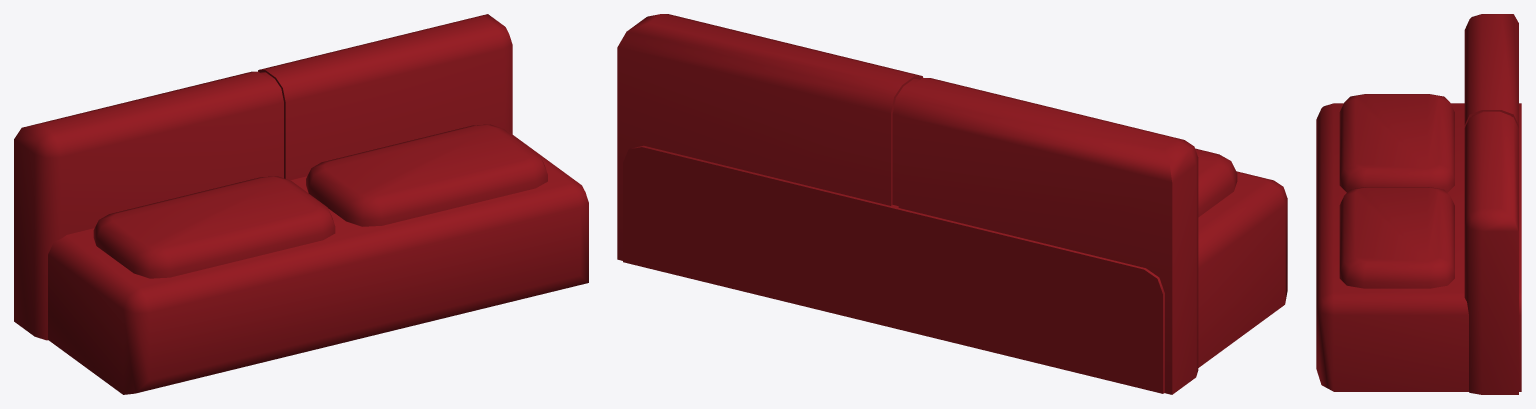
Rendered from Environment_Sofa.fbx.
3 renders of one model, left to right at view 1: azimuth 30°, elevation 25°; view 2: azimuth 150°, elevation 25°; view 3: azimuth 270°, elevation 25°, orthographic. The views are drawn at different scales.
Visible parts, largest first — view 1: Environment_Sofa; view 2: Environment_Sofa; view 3: Environment_Sofa.
Part boxes in pixels (bbox=[...]): Environment_Sofa: bbox=[14, 14, 588, 394]; Environment_Sofa: bbox=[617, 14, 1287, 394]; Environment_Sofa: bbox=[1316, 14, 1521, 394].
Bounding box in the file's own units: 390 × 157 × 162.
